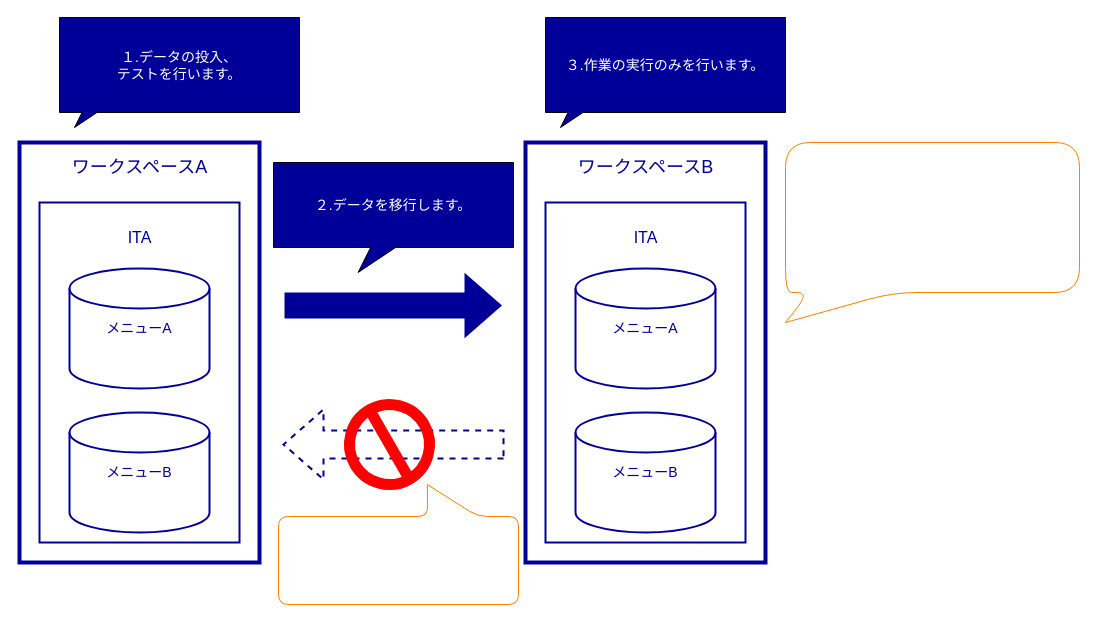
This 1097x622 diagram has some shape labels left out. Each missing label, with the box of its shape:
※データ移行を複数行う前提の場合、データの登録・更新を行うとデータの不整合が発生する可能性があるため非推奨です。 作業の実行のみであれば影響はありません。: (784, 142, 1080, 322)
※双方向でのデータの移行は、 データの不整合が発生する可能性が あるため非推奨です。: (278, 484, 518, 604)
